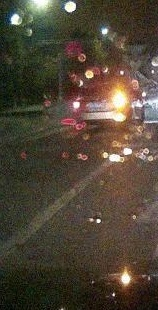L_light: (71, 101, 85, 108)
R_light: (112, 99, 127, 107)
T_light: (96, 83, 106, 86)
night-right: (72, 80, 128, 129)
